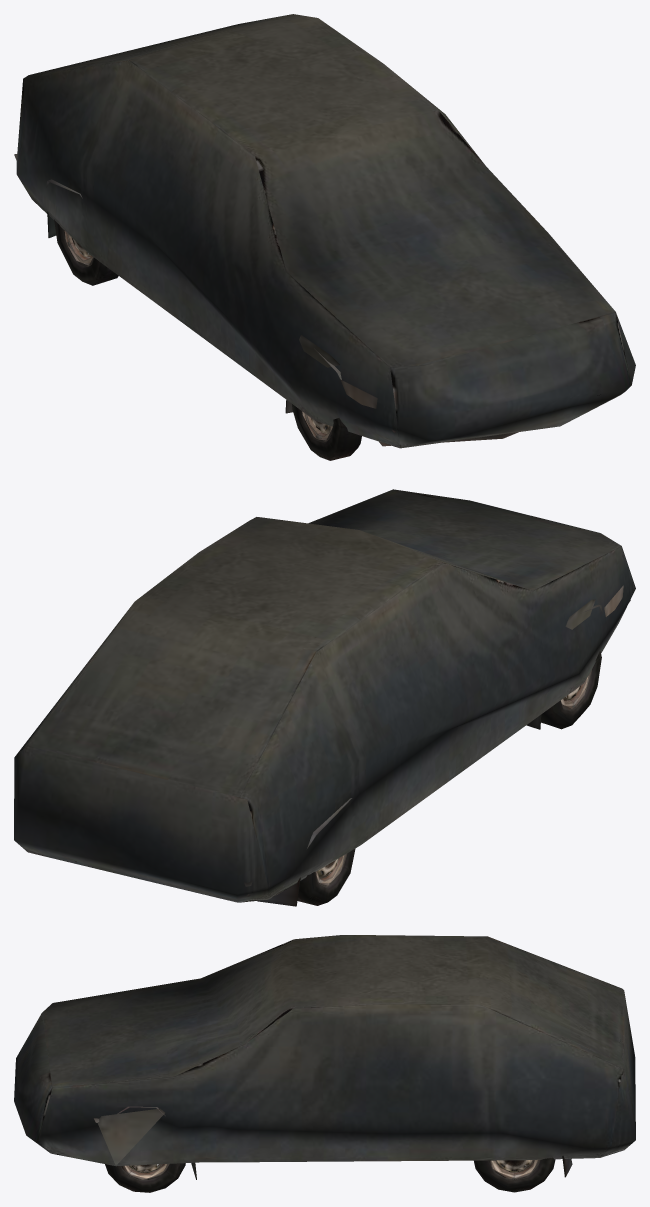
Rendered from covered_car.glb.
3 views of the same model, one above another, from view 1: azimuth 30°, elevation 25°; view 2: azimuth 150°, elevation 25°; view 3: azimuth 270°, elevation 25° (orthographic). The views are drawn at different scales.
Visible parts, largest first — view 1: covered_car, covered_car_wheel_02, covered_car_wheel_03; view 2: covered_car, covered_car_wheel_03, covered_car_wheel_02; view 3: covered_car, covered_car_wheel_04, covered_car_wheel_01.
Boxes of the visible parts, box(x1,y1,x2,y2) form: covered_car: box(14, 14, 635, 448); covered_car_wheel_02: box(292, 404, 361, 460); covered_car_wheel_03: box(54, 219, 118, 285); covered_car: box(14, 489, 635, 906); covered_car_wheel_03: box(297, 848, 355, 905); covered_car_wheel_02: box(541, 651, 601, 729); covered_car: box(14, 935, 635, 1179); covered_car_wheel_04: box(474, 1157, 555, 1192); covered_car_wheel_01: box(105, 1163, 185, 1192).
Bounding box in the file's own units: 1.77 × 1.38 × 4.34.
1 material, 1 textured.
